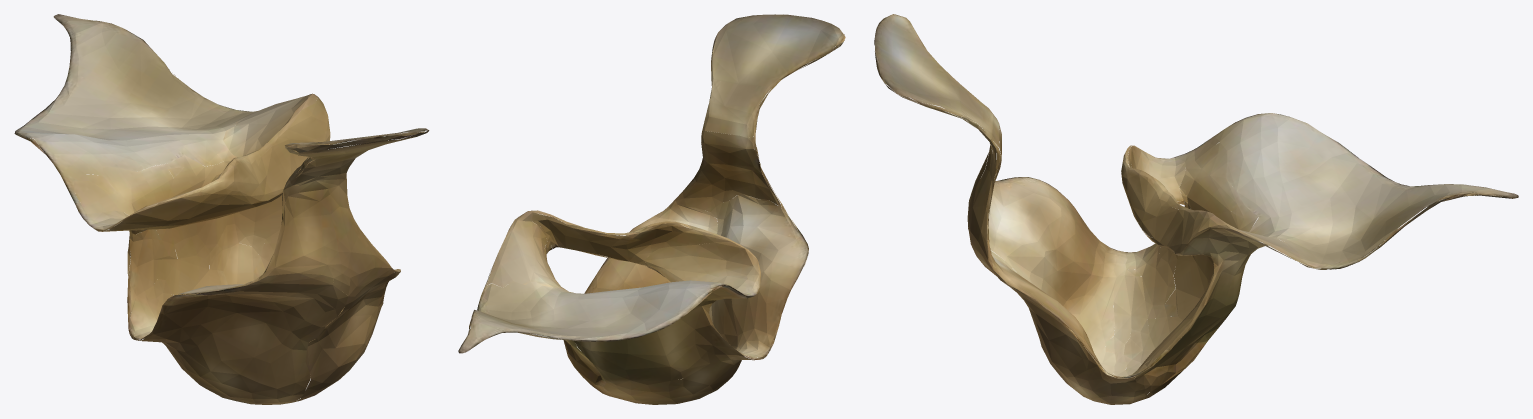
Rendered from x-sculpture-or.glb.
The picture shows the model from 3 angles, left to right: view 1: azimuth 30°, elevation 25°; view 2: azimuth 150°, elevation 25°; view 3: azimuth 270°, elevation 25°; orthographic projection. The views are drawn at different scales.
Parts seen in each view (by area): view 1: geometry_0; view 2: geometry_0; view 3: geometry_0.
Boxes of the visible parts, x1=… form: geometry_0: x1=14, y1=14, x2=429, y2=404; geometry_0: x1=458, y1=14, x2=845, y2=404; geometry_0: x1=874, y1=14, x2=1518, y2=404.
Size of the model in its own units: 0.4301 by 0.5688 by 0.9997.
Materials: 1 (1 with a texture image).
